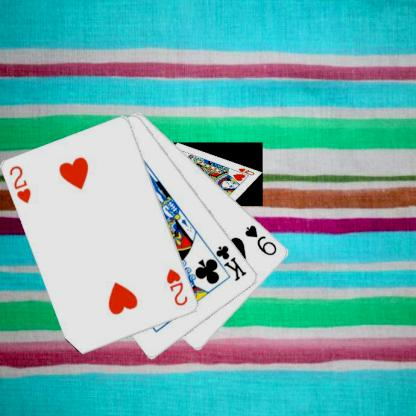2H: (6, 163, 32, 205), (164, 266, 189, 307)
9S: (243, 222, 278, 257)
KC: (206, 242, 248, 283)
